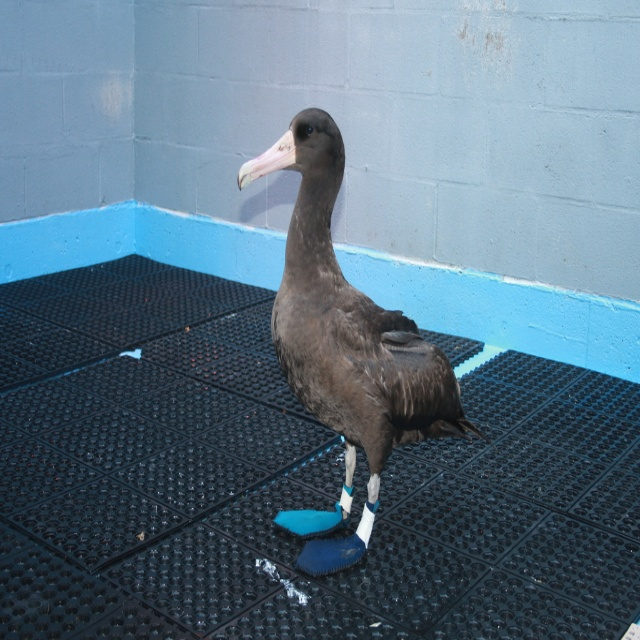Duck: (237, 106, 480, 577)
